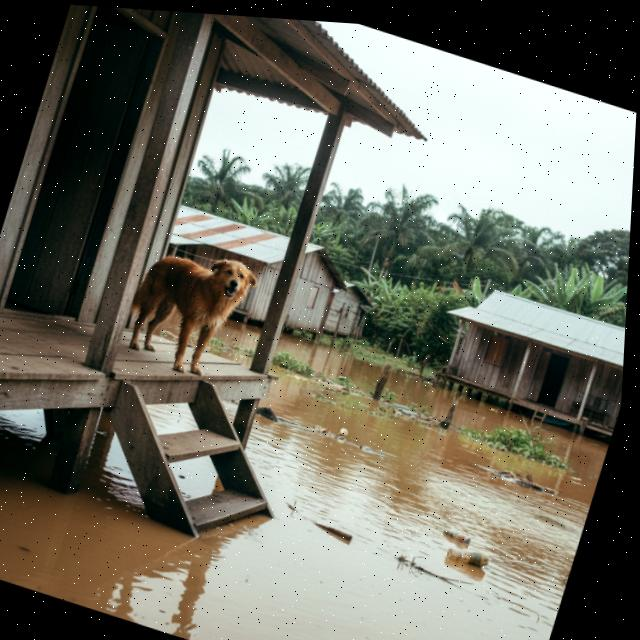dog: (112, 226, 273, 397)
